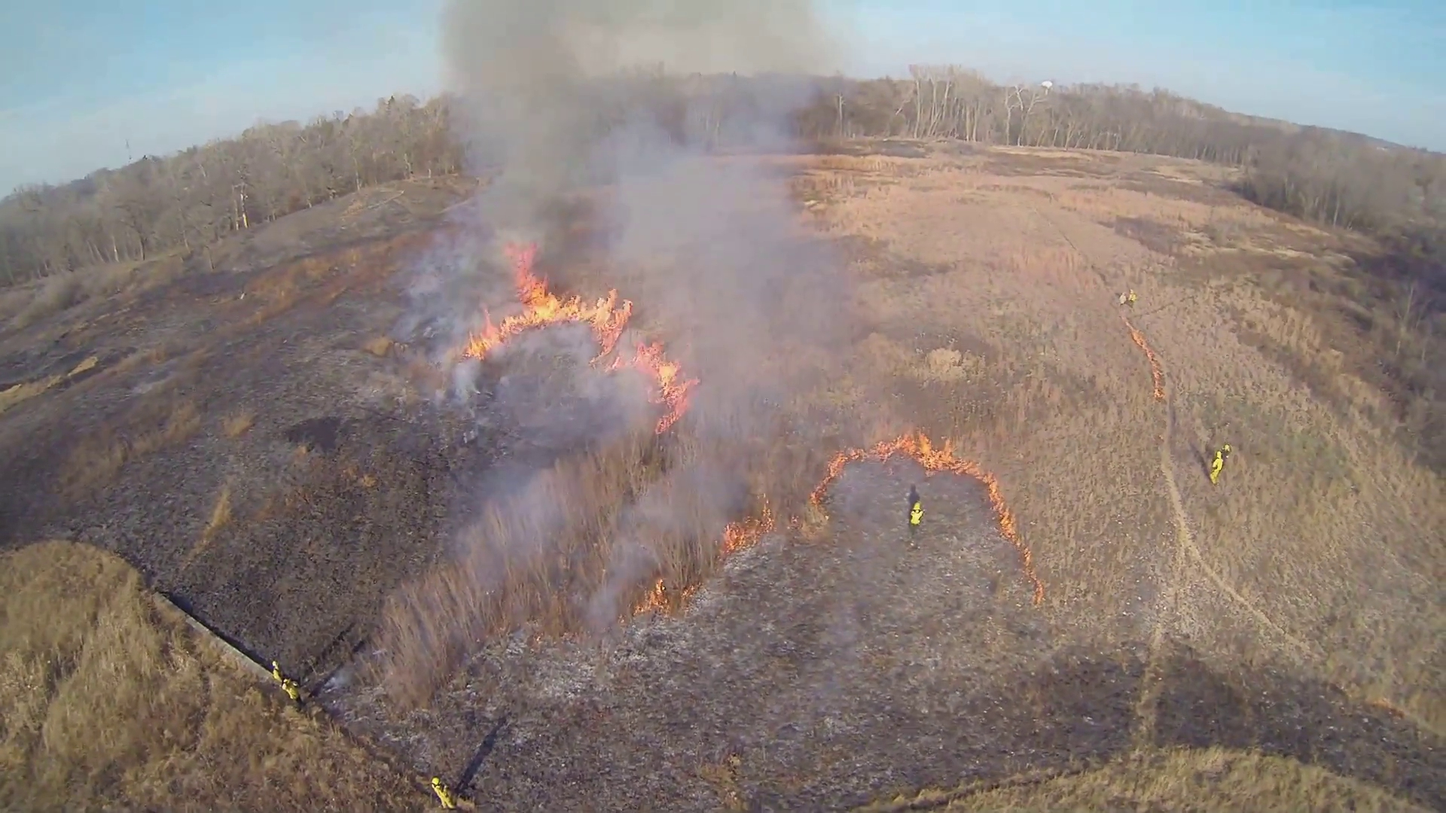forest_fire: (462, 244, 697, 434), (810, 433, 1044, 604), (1122, 317, 1165, 402), (721, 500, 775, 554), (637, 577, 697, 611)
